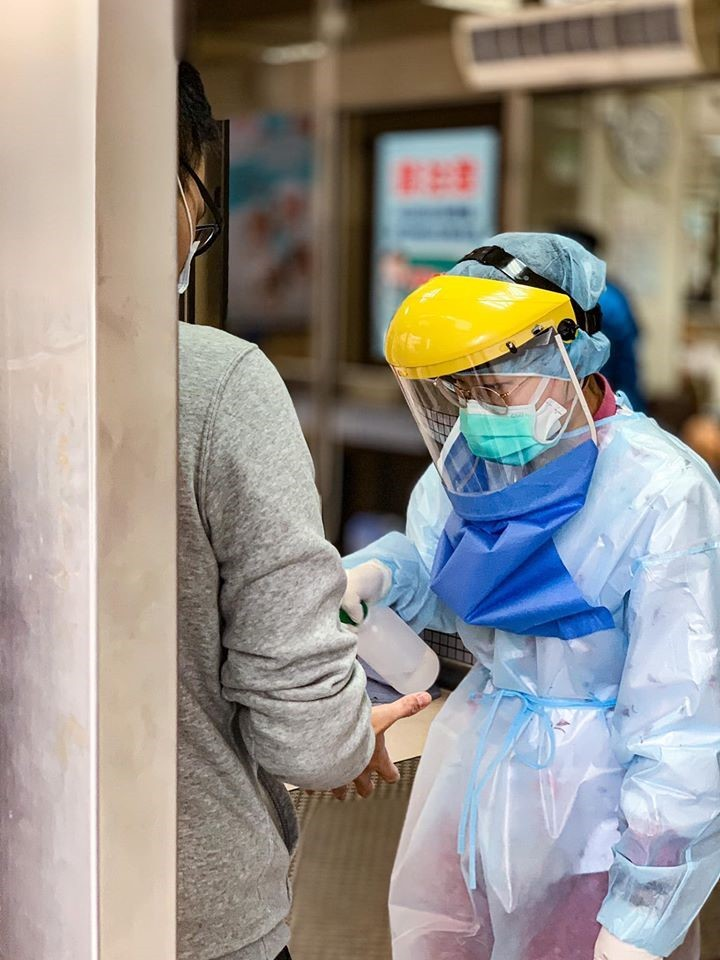Coverall: (381, 405, 720, 960)
Face_Shield: (379, 271, 604, 510)
Gloves: (339, 558, 395, 628)
with_mask: (448, 376, 557, 470)
